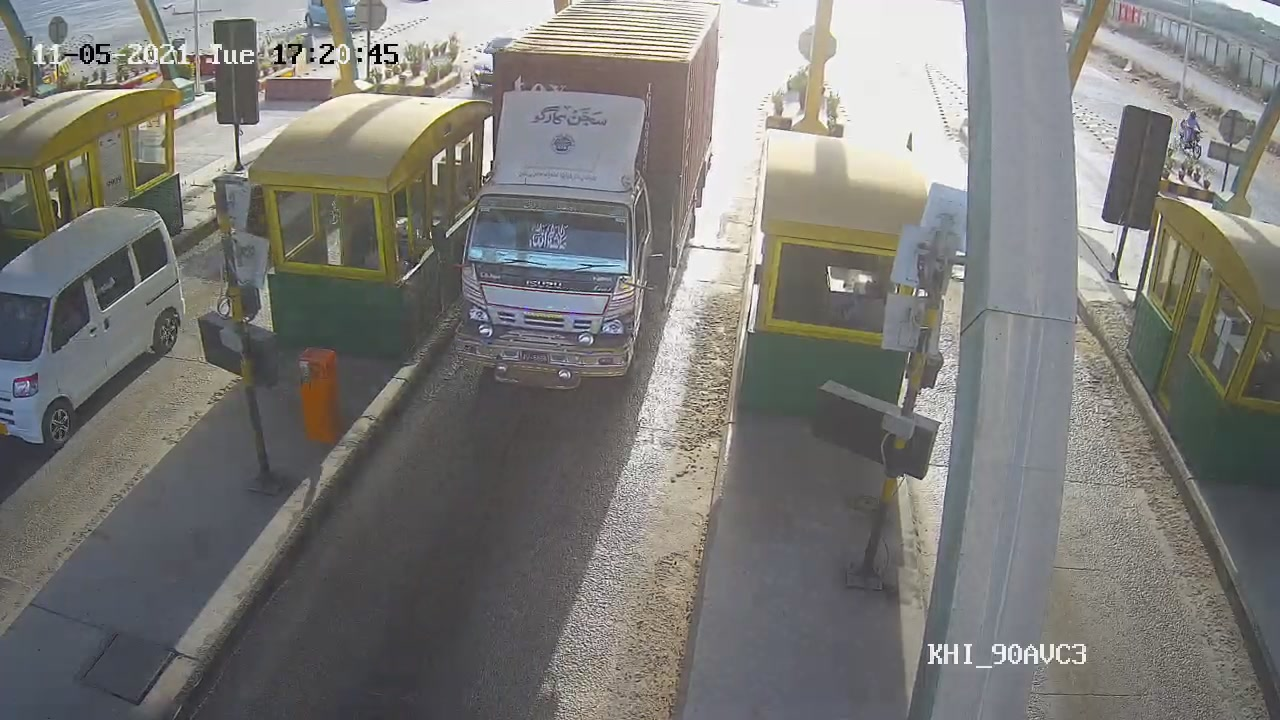F6: (451, 1, 726, 391)
